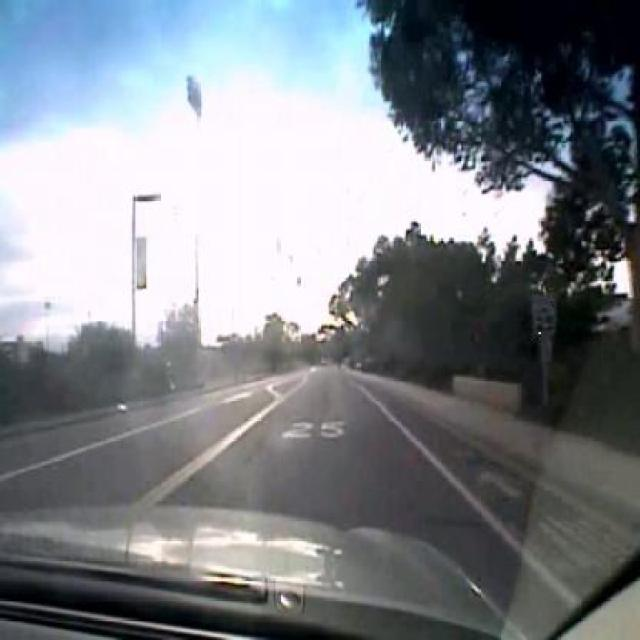speedLimit25: (529, 292, 556, 336)
